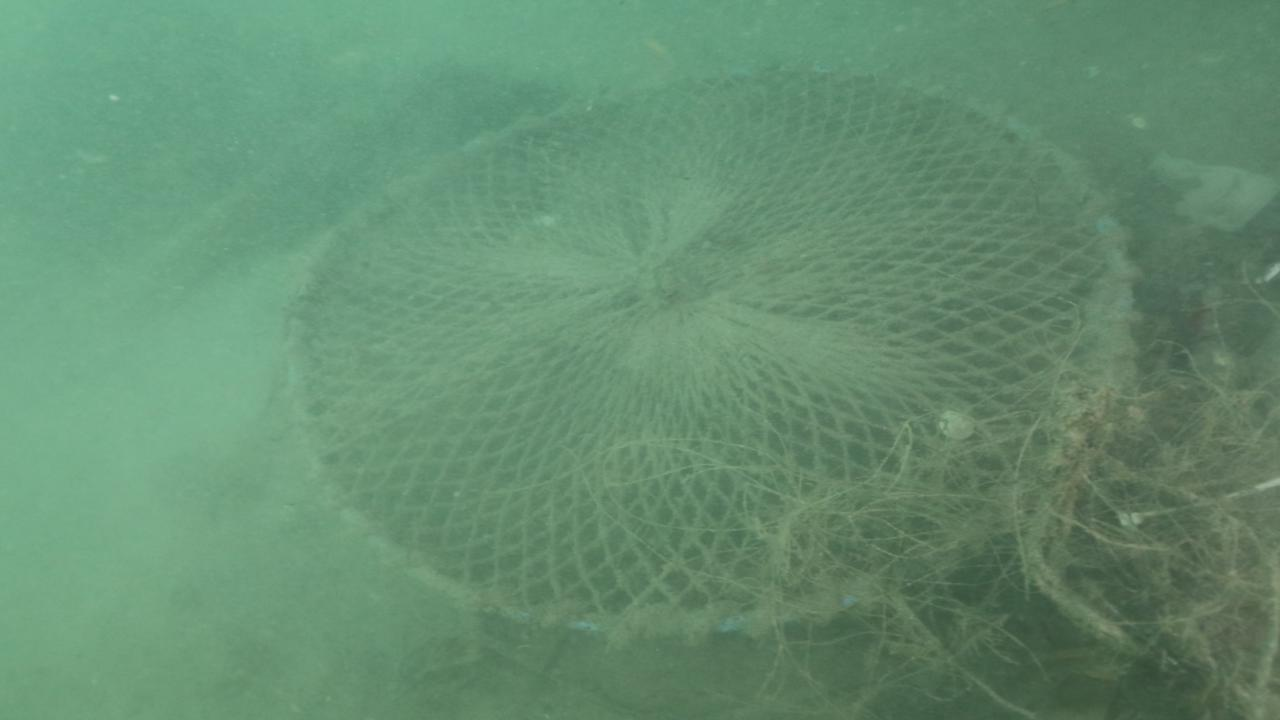circular fish trap: (267, 55, 1145, 647)
